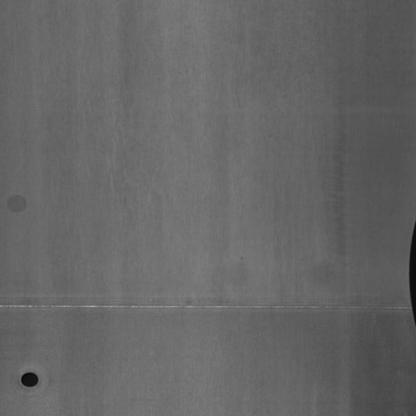punching_hole: (18, 362, 45, 391)
welding_line: (0, 291, 416, 322)
